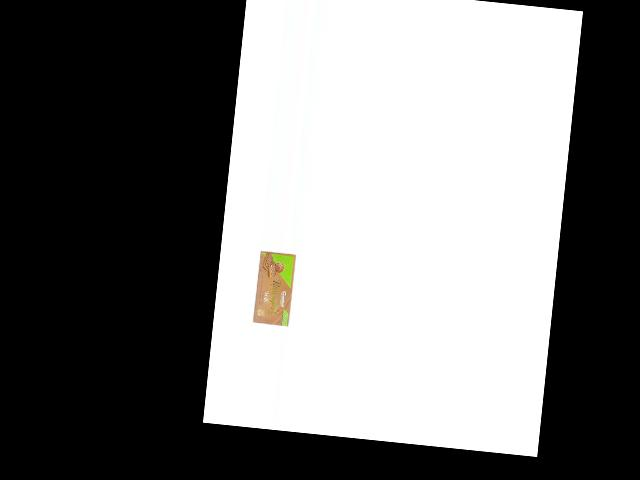chocolate: (249, 249, 297, 329)
